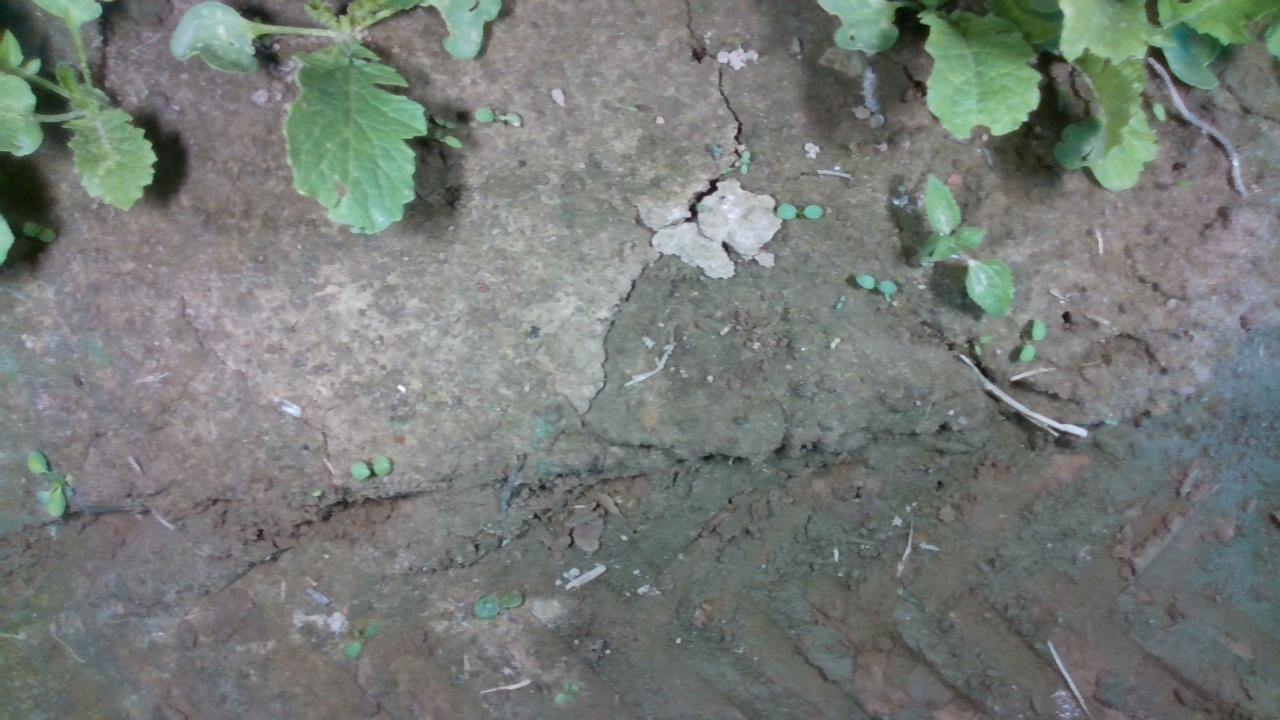weed: (920, 170, 1014, 318), (23, 448, 68, 520), (469, 587, 524, 617), (1018, 312, 1046, 364), (471, 103, 524, 127), (345, 454, 391, 481), (854, 270, 899, 293), (774, 202, 824, 220), (733, 148, 750, 176), (431, 115, 457, 129), (827, 334, 841, 350), (834, 293, 846, 311)
